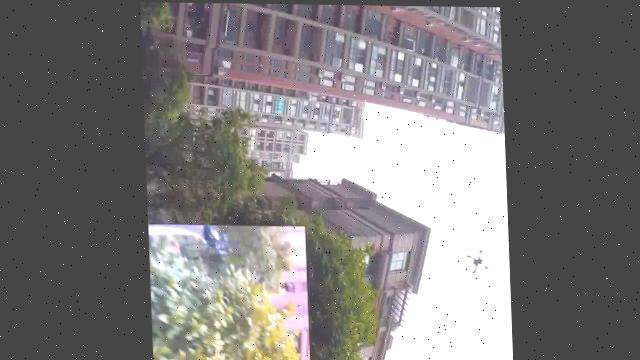drone: (467, 242, 498, 275)
